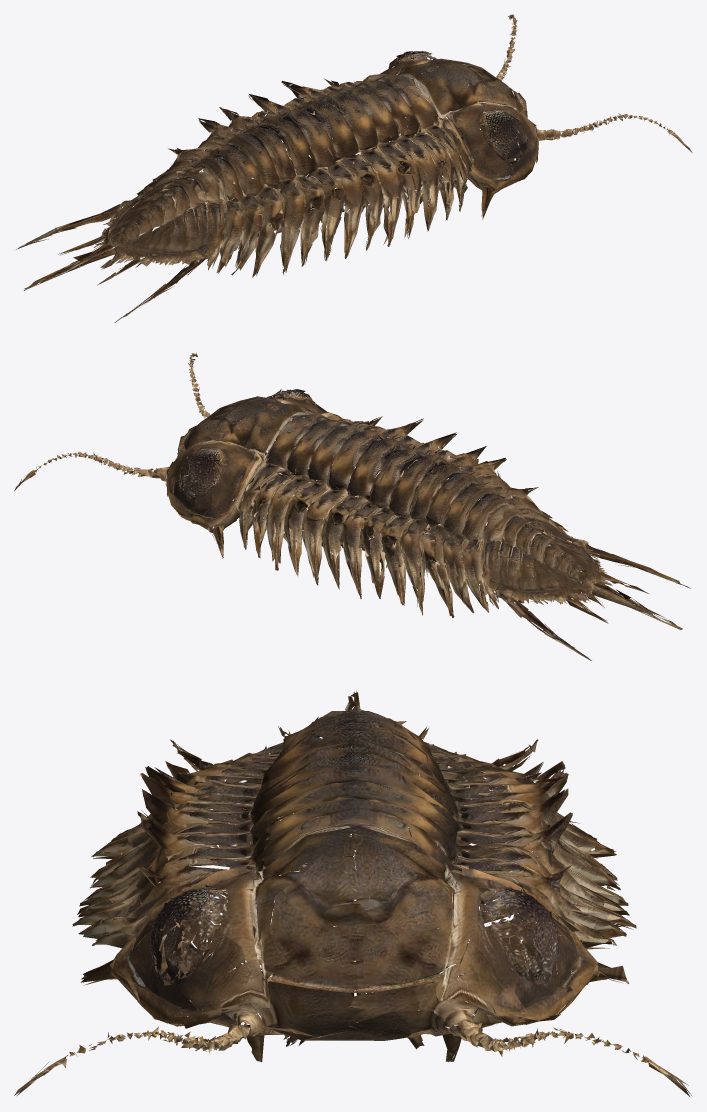
The model's file is trilobite2.glb.
3 renders of one model, top to bottom at view 1: azimuth 30°, elevation 25°; view 2: azimuth 150°, elevation 25°; view 3: azimuth 270°, elevation 25°, orthographic. The views are drawn at different scales.
Visible parts, largest first — view 1: Mesh_0; view 2: Mesh_0; view 3: Mesh_0.
Part boxes in pixels (x1,y1,x2,y2): Mesh_0: (16, 14, 692, 322); Mesh_0: (14, 353, 690, 660); Mesh_0: (14, 690, 691, 1096).
Bounding box in the file's own units: 0.9995 × 0.2164 × 0.5487.
Materials: 1 (1 with a texture image).
